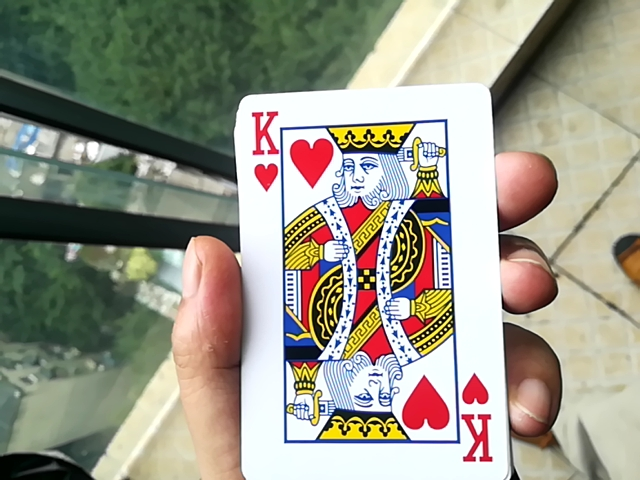hx k: (228, 76, 498, 480)
